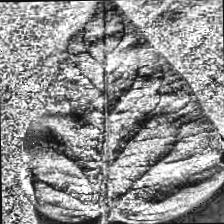spider mites: (18, 0, 224, 220)
